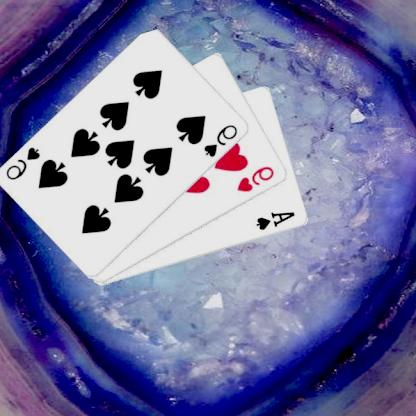9H: (236, 163, 278, 194)
9S: (5, 144, 44, 181), (203, 122, 241, 158)
AS: (255, 209, 299, 232)
